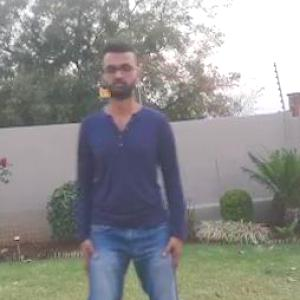follow: (68, 41, 180, 299)
